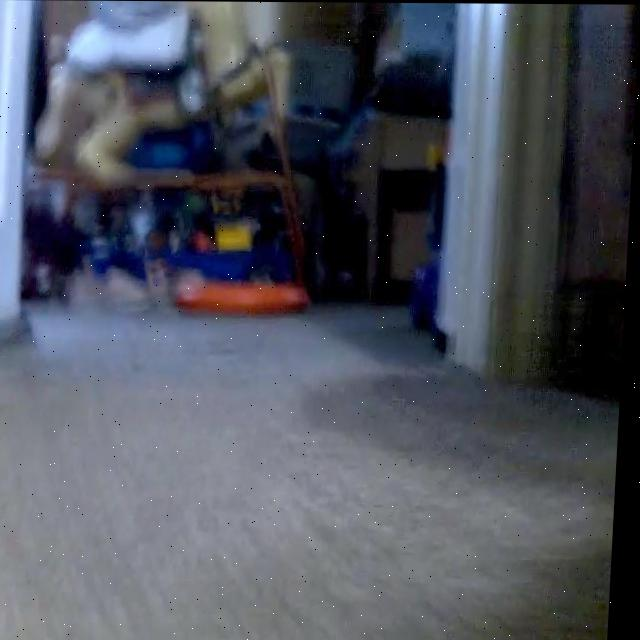note: (178, 277, 316, 318)
